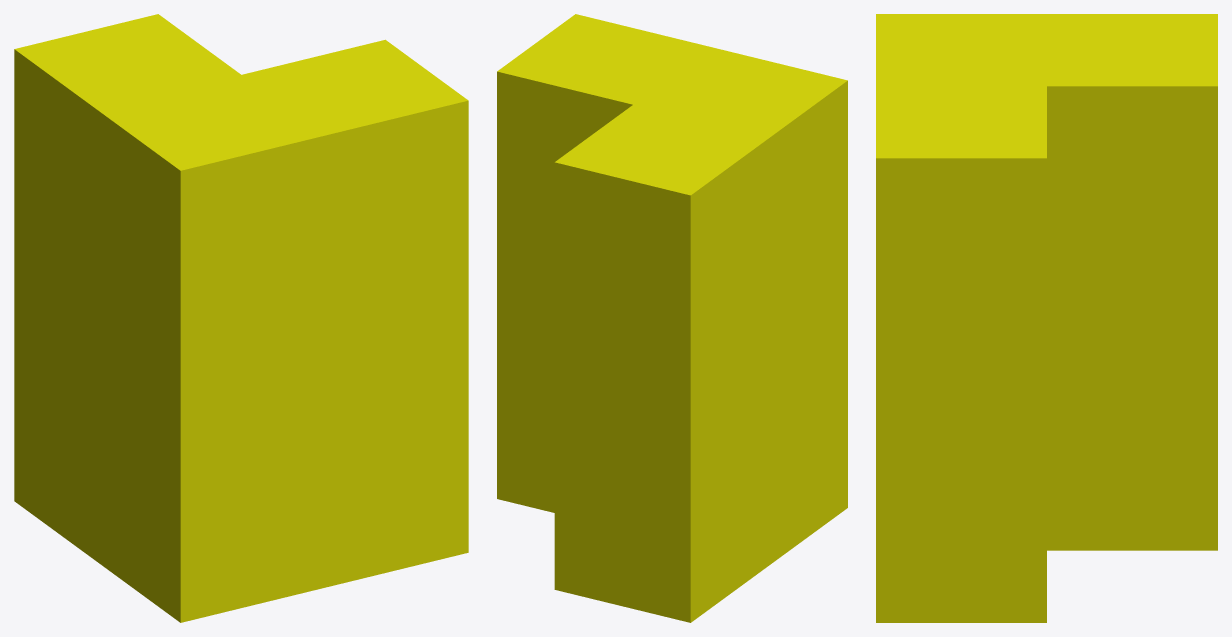
Rendered from wall_edge_3.fbx.
3 views of the same model, side by side, from view 1: azimuth 30°, elevation 25°; view 2: azimuth 150°, elevation 25°; view 3: azimuth 270°, elevation 25° (orthographic). The views are drawn at different scales.
Visible parts, largest first — view 1: wall_edge_3; view 2: wall_edge_3; view 3: wall_edge_3.
Boxes of the visible parts, x1,y1,x2,y2 form: wall_edge_3: (14,14,468,622); wall_edge_3: (497,14,847,622); wall_edge_3: (876,14,1217,622).
Bounding box in the file's own units: 2 × 3 × 2.
